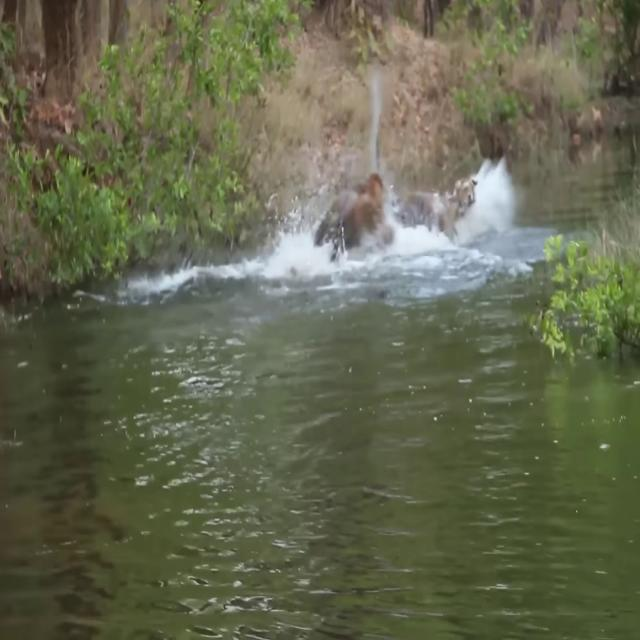tiger: (389, 174, 480, 247)
